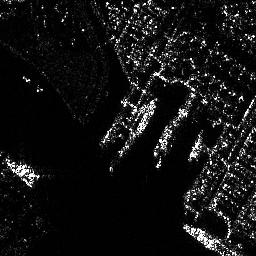ship: (133, 95, 156, 135), (188, 126, 204, 161)
